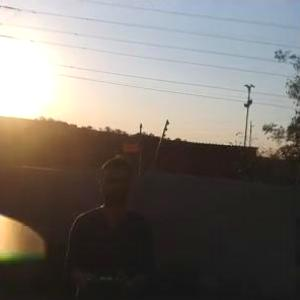follow: (58, 150, 157, 299)
